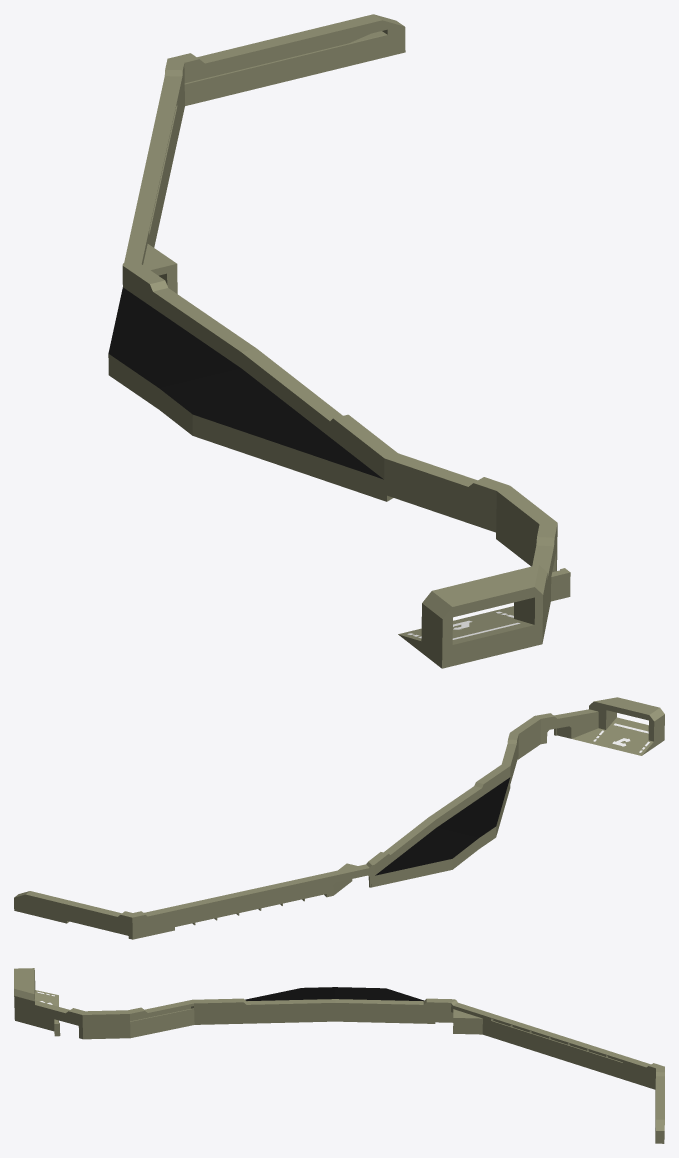
The picture shows the model from 3 angles, top to bottom: view 1: azimuth 30°, elevation 25°; view 2: azimuth 150°, elevation 25°; view 3: azimuth 270°, elevation 25°; orthographic projection. The views are drawn at different scales.
Visible parts, largest first — view 1: node; view 2: node; view 3: node.
Boxes of the visible parts, box(x1,y1,x2,y2) form: node: box(108, 14, 570, 668); node: box(14, 697, 664, 939); node: box(14, 968, 664, 1143).
Bounding box in the file's own units: 5.89 × 10.98 × 0.5717.
